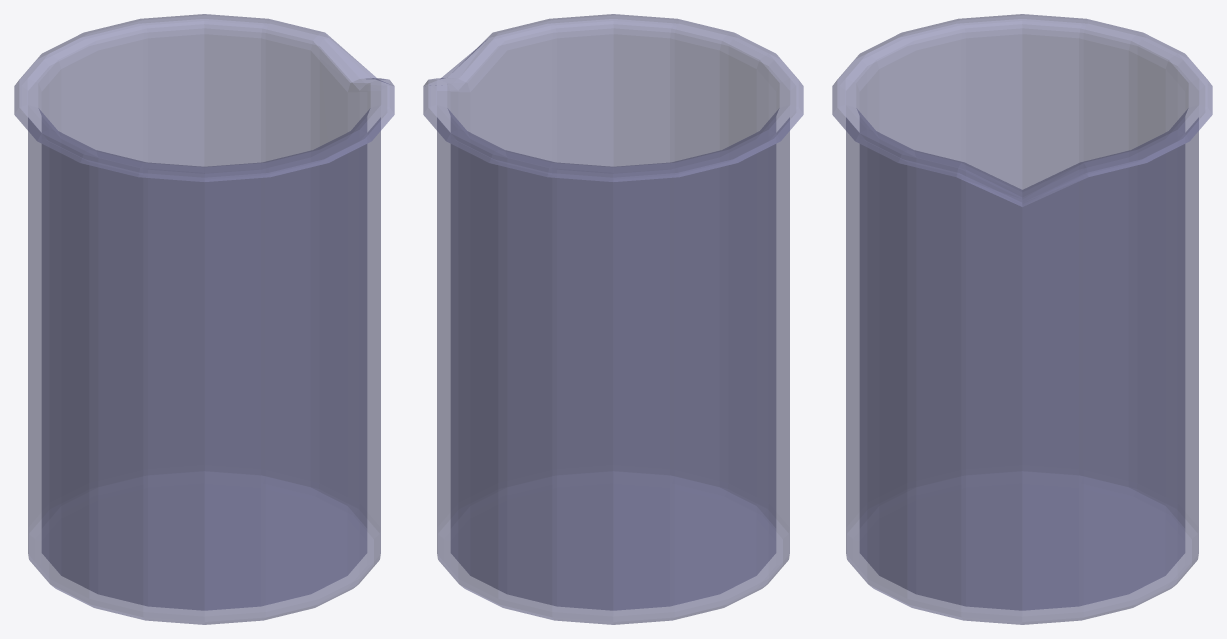
Rendered from beaker.glb.
3 renders of one model, left to right at view 1: azimuth 30°, elevation 25°; view 2: azimuth 150°, elevation 25°; view 3: azimuth 270°, elevation 25°, orthographic.
Parts seen in each view (by area): view 1: Beaker; view 2: Beaker; view 3: Beaker.
Part boxes in pixels (bbox=[...]): Beaker: bbox=[14, 14, 394, 624]; Beaker: bbox=[423, 14, 803, 624]; Beaker: bbox=[832, 14, 1212, 624].
Size of the model in its own units: 5.37 by 6.94 by 5.18.
